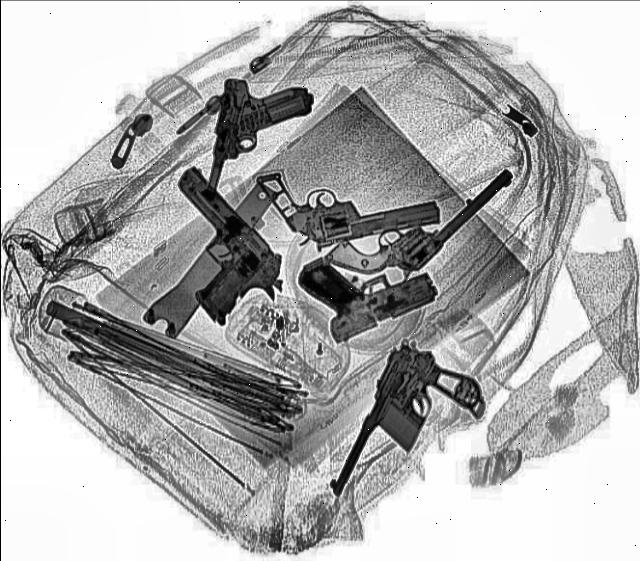Gun: (322, 133, 518, 303), (328, 336, 502, 524), (114, 166, 306, 332), (253, 141, 444, 260), (290, 226, 448, 346), (202, 77, 318, 211)
